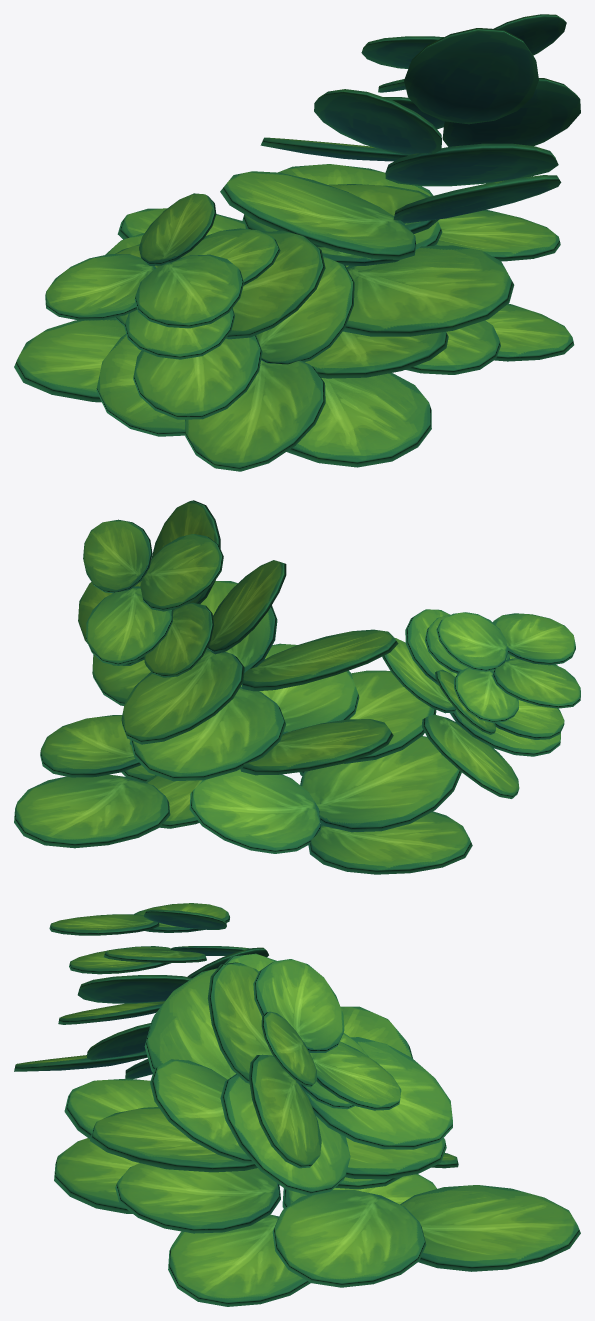
Rendered from mesh_tetraphylla.fbx.
3 renders of one model, top to bottom at view 1: azimuth 30°, elevation 25°; view 2: azimuth 150°, elevation 25°; view 3: azimuth 270°, elevation 25°, orthographic. The views are drawn at different scales.
Visible parts, largest first — view 1: tetraphylla; view 2: tetraphylla; view 3: tetraphylla.
Part boxes in pixels (x1,y1,x2,y2): tetraphylla: (14,14,580,471); tetraphylla: (14,500,580,874); tetraphylla: (14,903,580,1306).
Size of the model in its own units: 0.3191 by 0.1714 by 0.2916.
